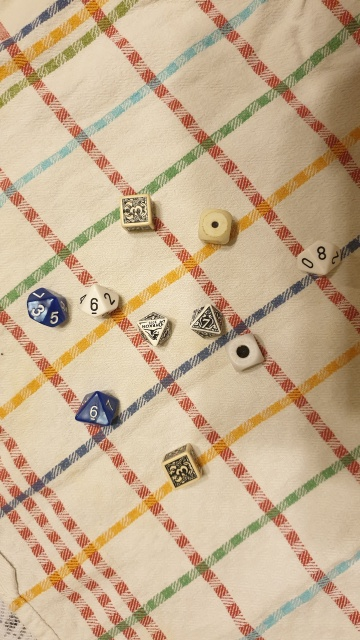d10-3: (19, 283, 72, 331)
d10-6: (65, 388, 123, 434), (74, 279, 121, 323)
d10-8: (285, 235, 348, 280)
d6-1: (223, 332, 267, 375), (195, 208, 236, 245)
d6p-3: (160, 440, 206, 494), (117, 192, 156, 234)
d8p-1: (132, 310, 177, 352)
d8p-7: (186, 300, 227, 344)
